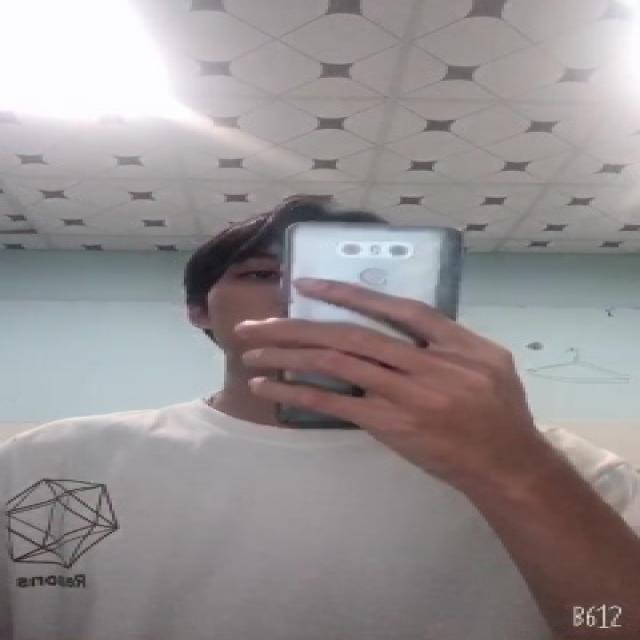Phone: (272, 221, 468, 433)
